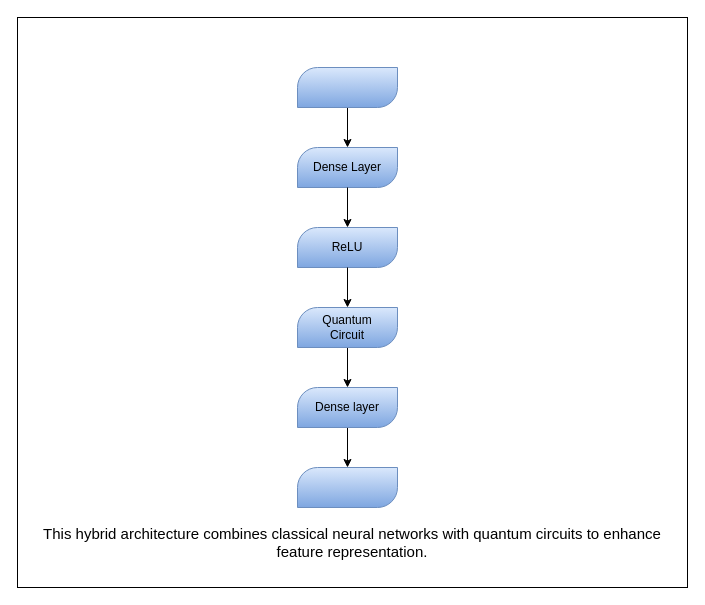
The diagram is 705 pixels wide and 605 high, and some of its shapes have lost their labels. Here are the shapes that lost their labels. From the top down, the centre of each, then its label:
At pixel 347 87: "Input".
At pixel 347 487: "Output".
